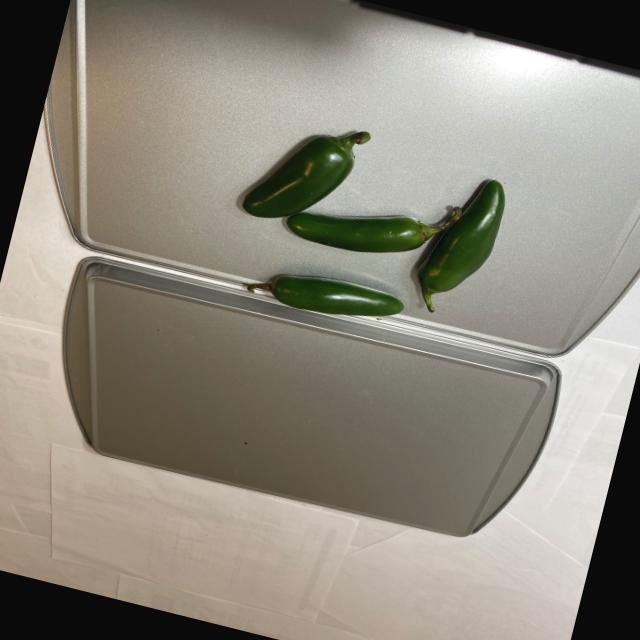chilli: (218, 108, 514, 355)
